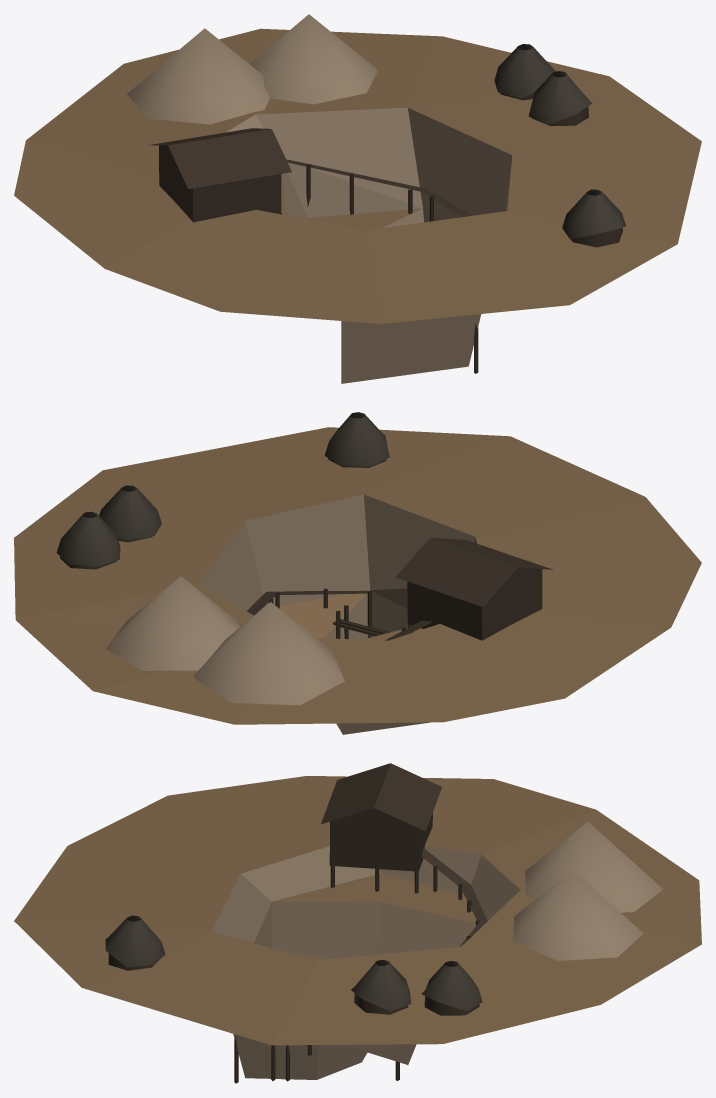
The model's file is mine.glb.
The picture shows the model from 3 angles, top to bottom: view 1: azimuth 30°, elevation 25°; view 2: azimuth 150°, elevation 25°; view 3: azimuth 270°, elevation 25°; orthographic projection. The views are drawn at different scales.
Visible parts, largest first — view 1: mine-6, deposit_mine-6_1, deposit_mine-6_2, hut_mine-6_2, hut_mine-6_3, hut_mine-6_1; view 2: mine-6, deposit_mine-6_1, deposit_mine-6_2, hut_mine-6_1, hut_mine-6_2, hut_mine-6_3; view 3: mine-6, deposit_mine-6_2, deposit_mine-6_1, hut_mine-6_2, hut_mine-6_1, hut_mine-6_3.
Part boxes in pixels (bbox=[...]): mine-6: bbox=[14, 28, 701, 383]; deposit_mine-6_1: bbox=[127, 28, 269, 124]; deposit_mine-6_2: bbox=[249, 14, 378, 104]; hut_mine-6_2: bbox=[562, 189, 625, 247]; hut_mine-6_3: bbox=[528, 71, 591, 125]; hut_mine-6_1: bbox=[494, 44, 555, 100]; mine-6: bbox=[14, 427, 701, 734]; deposit_mine-6_1: bbox=[193, 602, 344, 705]; deposit_mine-6_2: bbox=[106, 576, 239, 670]; hut_mine-6_1: bbox=[56, 511, 120, 569]; hut_mine-6_2: bbox=[325, 412, 389, 467]; hut_mine-6_3: bbox=[99, 485, 161, 542]; mine-6: bbox=[14, 763, 701, 1083]; deposit_mine-6_2: bbox=[513, 870, 643, 960]; deposit_mine-6_1: bbox=[525, 822, 663, 912]; hut_mine-6_2: bbox=[105, 915, 165, 970]; hut_mine-6_1: bbox=[422, 961, 482, 1015]; hut_mine-6_3: bbox=[351, 960, 411, 1014].
Bounding box in the file's own units: 1.74 × 0.6627 × 1.87.
